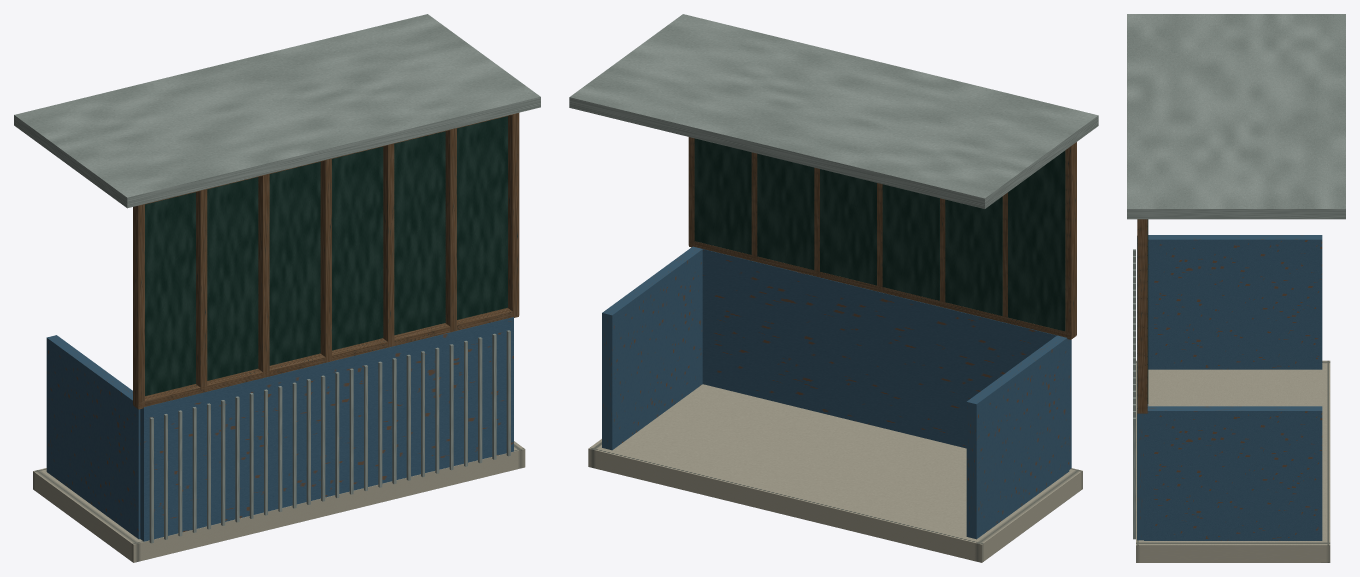
The model's file is CIS_GlazedBalcony.glb.
3 renders of one model, left to right at view 1: azimuth 30°, elevation 25°; view 2: azimuth 150°, elevation 25°; view 3: azimuth 270°, elevation 25°, orthographic. The views are drawn at different scales.
Parts seen in each view (by area): view 1: CIS_GlazedBalcony; view 2: CIS_GlazedBalcony; view 3: CIS_GlazedBalcony.
Boxes of the visible parts, x1,y1,x2,y2 form: CIS_GlazedBalcony: (14,14,540,562); CIS_GlazedBalcony: (569,14,1098,562); CIS_GlazedBalcony: (1127,14,1345,562).
Size of the model in its own units: 2.85 by 2.44 by 1.35.
Materials: 5 (5 with a texture image).
